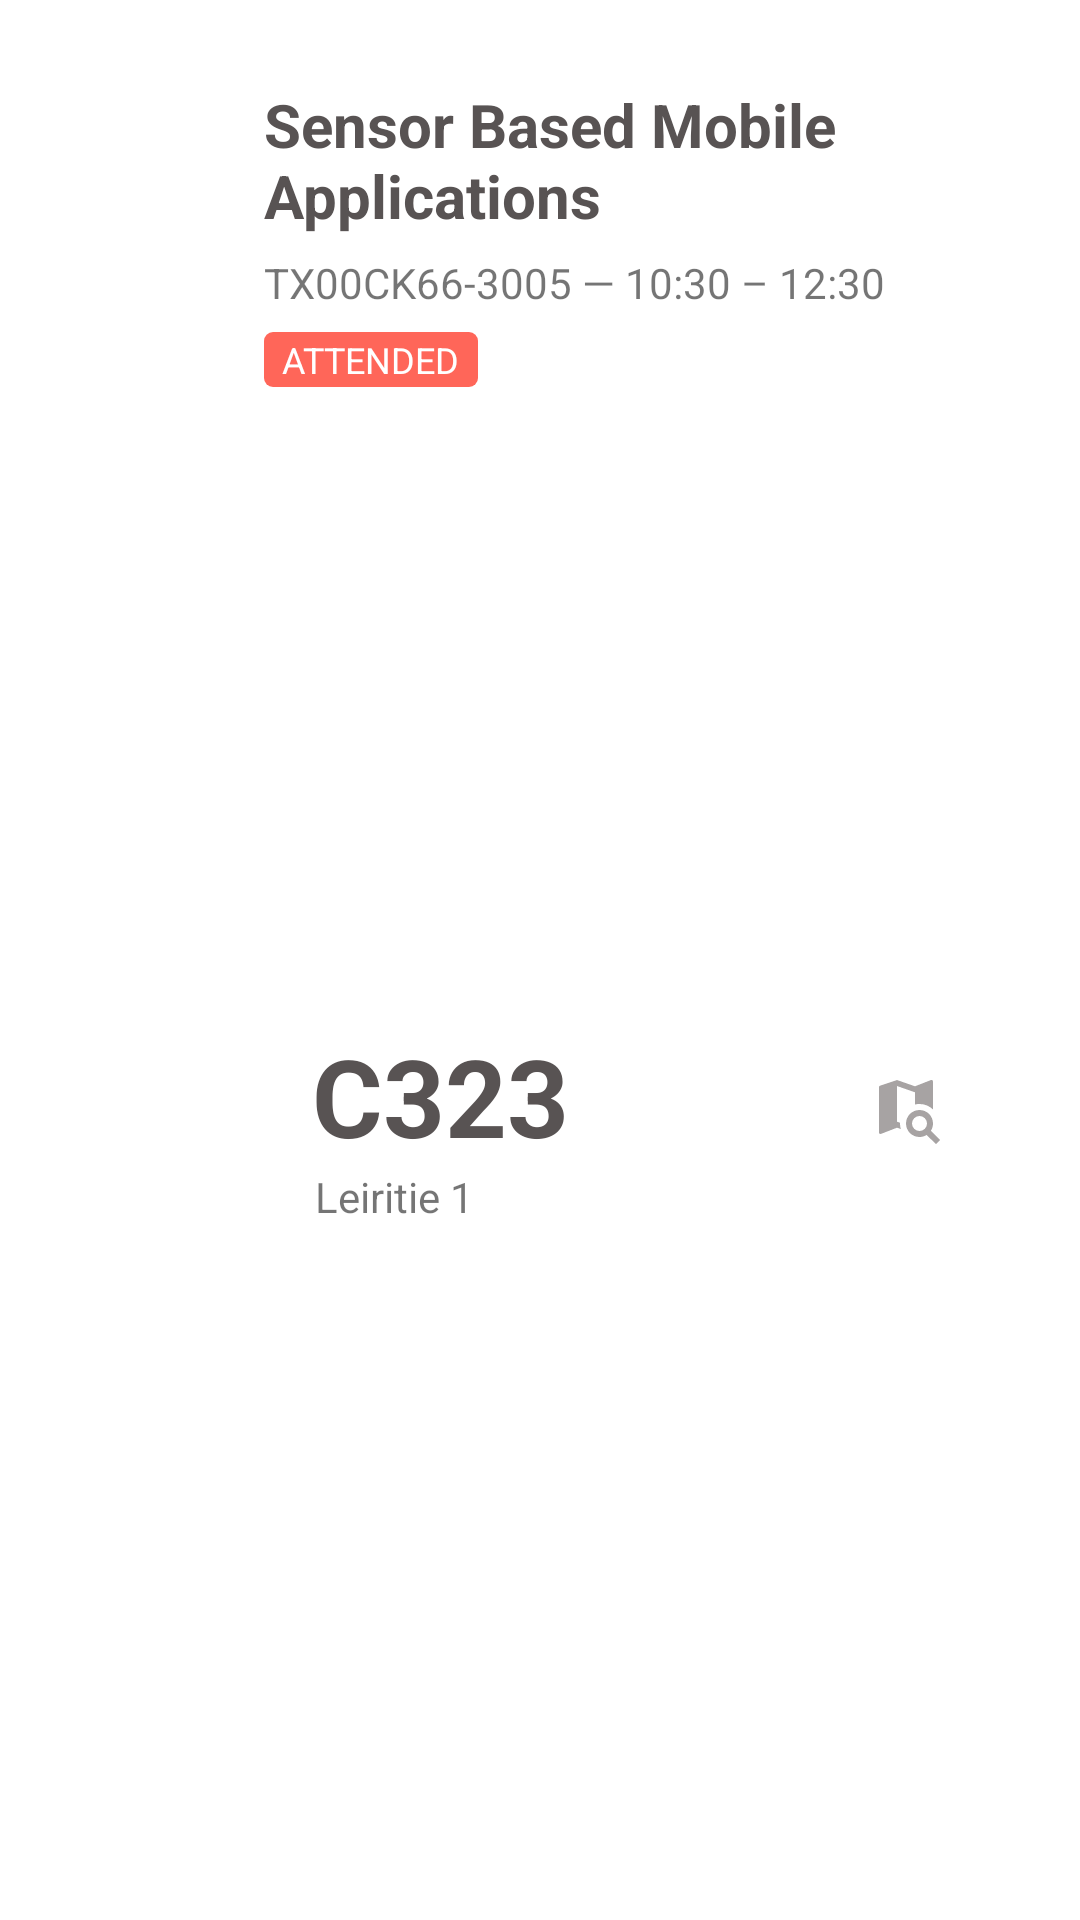

Named icons in this screenshot (1080px x 1920px) and their bounding boxes, (x1, y1, x2, y2):
Search in Google Maps: (879, 1080, 940, 1144)
